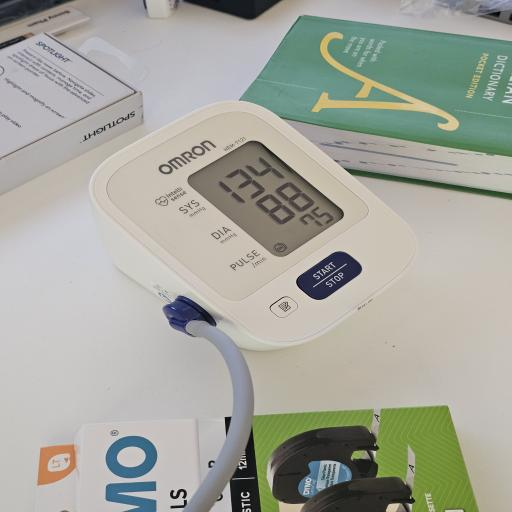blood pressure monitor: (88, 102, 422, 352)
